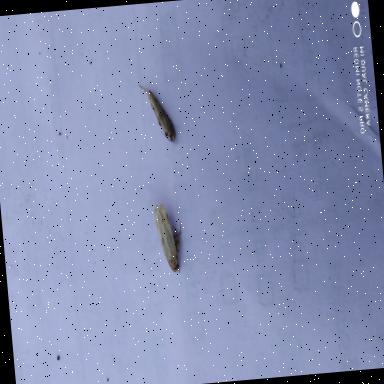pbw: (136, 74, 182, 152), (150, 198, 190, 279)
